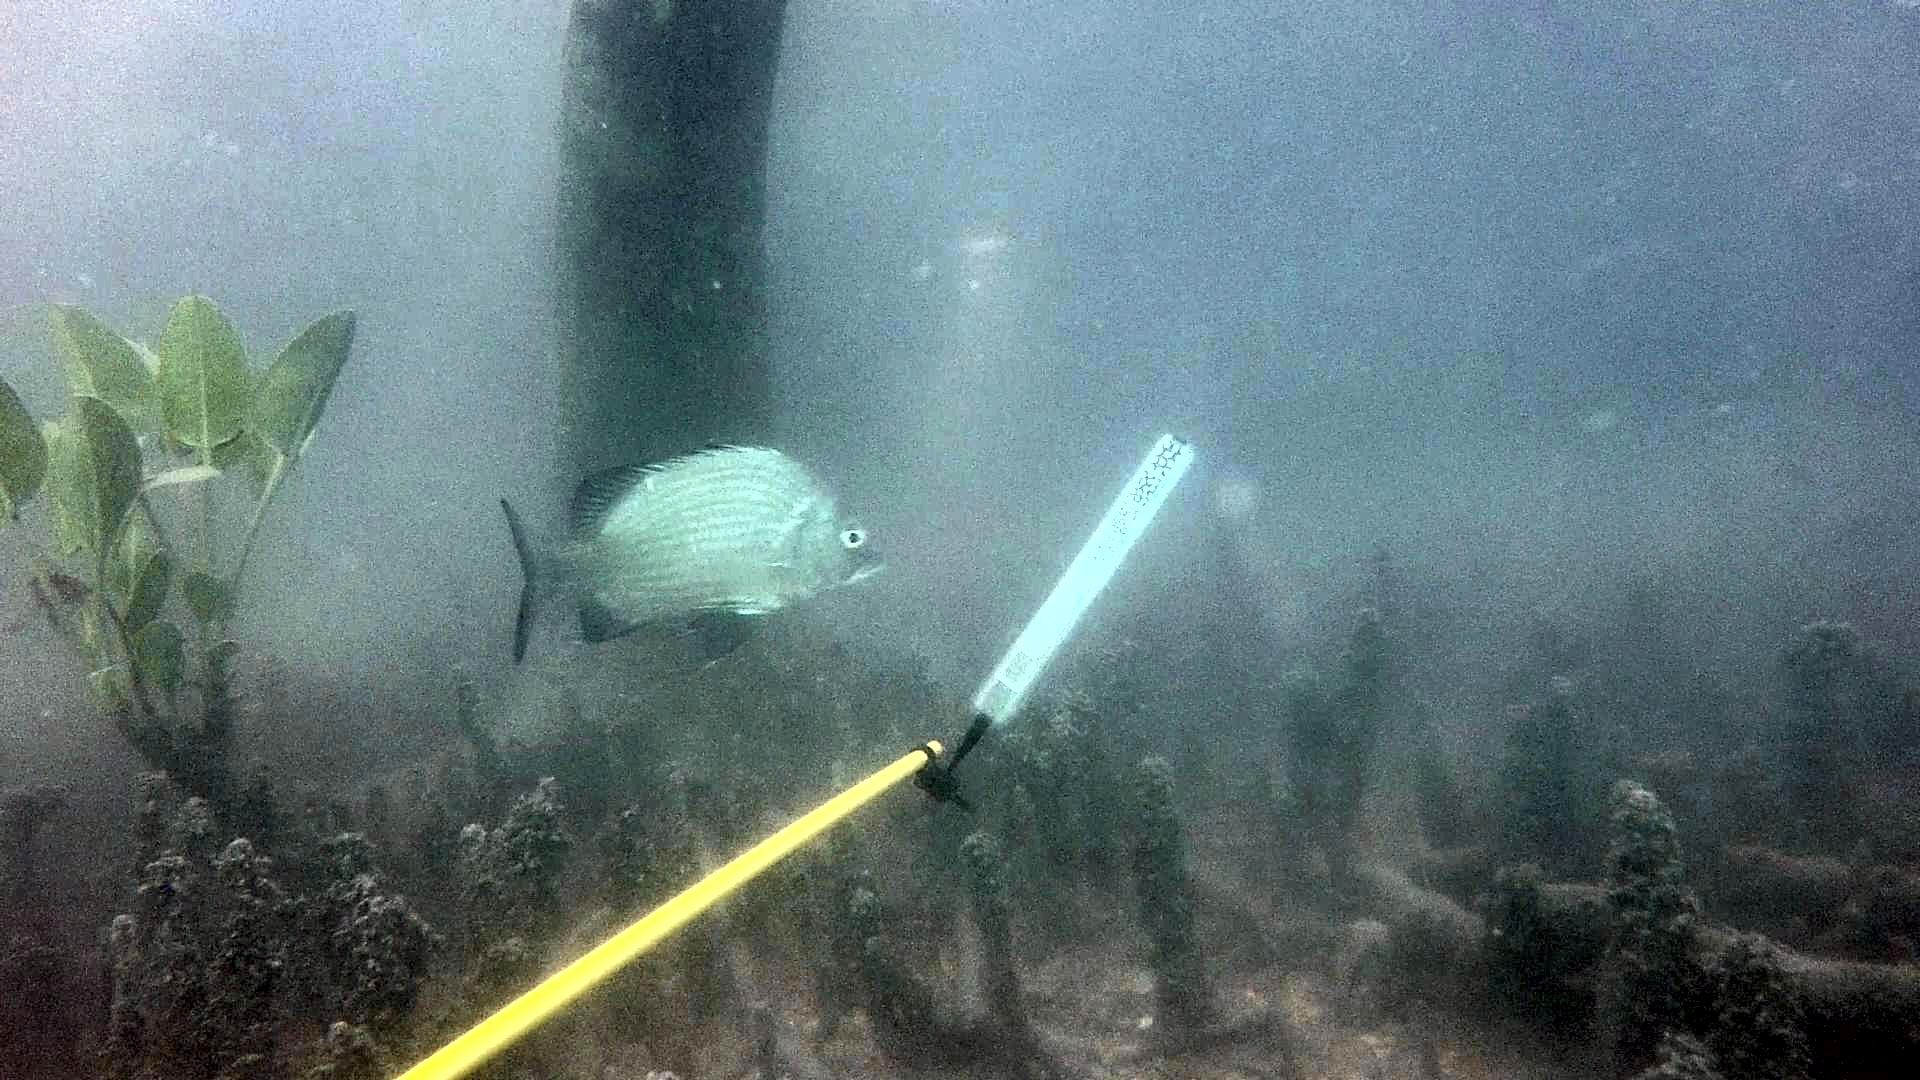acanthopagrus palmaris: (493, 423, 907, 688)
